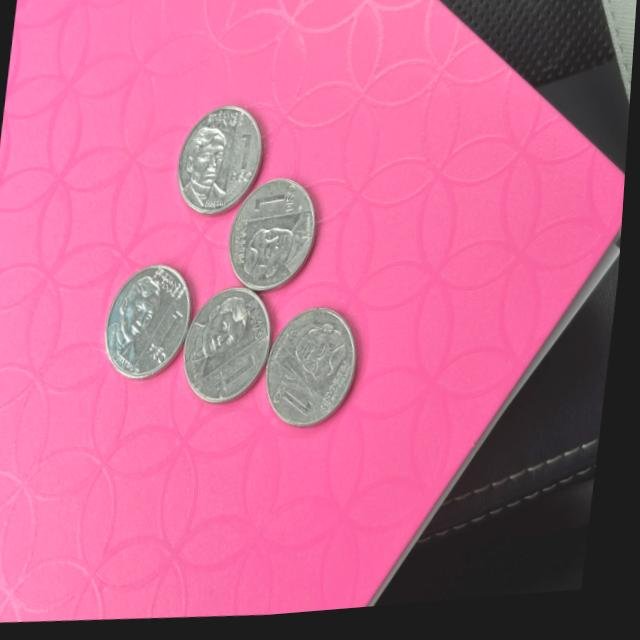1_New_Front: (205, 342, 268, 406), (143, 305, 190, 378), (276, 379, 326, 427), (252, 182, 312, 221), (233, 131, 259, 191)
